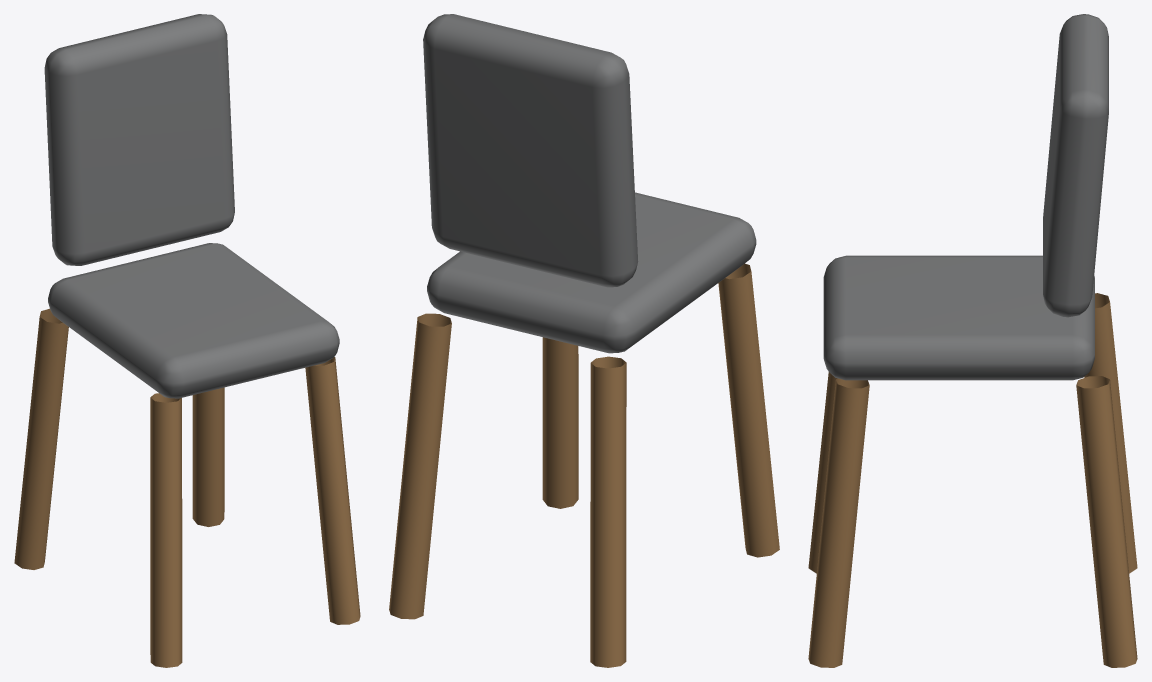
The model's file is prod-1773061941304-yx2q2.glb.
3 renders of one model, left to right at view 1: azimuth 30°, elevation 25°; view 2: azimuth 150°, elevation 25°; view 3: azimuth 270°, elevation 25°, orthographic. The views are drawn at different scales.
Visible parts, largest first — view 1: Upholstered seat.006, Chair leg.016; view 2: Upholstered seat.006, Chair leg.016; view 3: Upholstered seat.006, Chair leg.016.
Part boxes in pixels (<box>): Upholstered seat.006: <box>44,14,339,398</box>; Chair leg.016: <box>14,308,360,667</box>; Upholstered seat.006: <box>423,14,756,353</box>; Chair leg.016: <box>389,263,779,667</box>; Upholstered seat.006: <box>823,14,1108,380</box>; Chair leg.016: <box>808,293,1137,667</box>.
Size of the model in its own units: 0.35 by 0.85 by 0.45.
